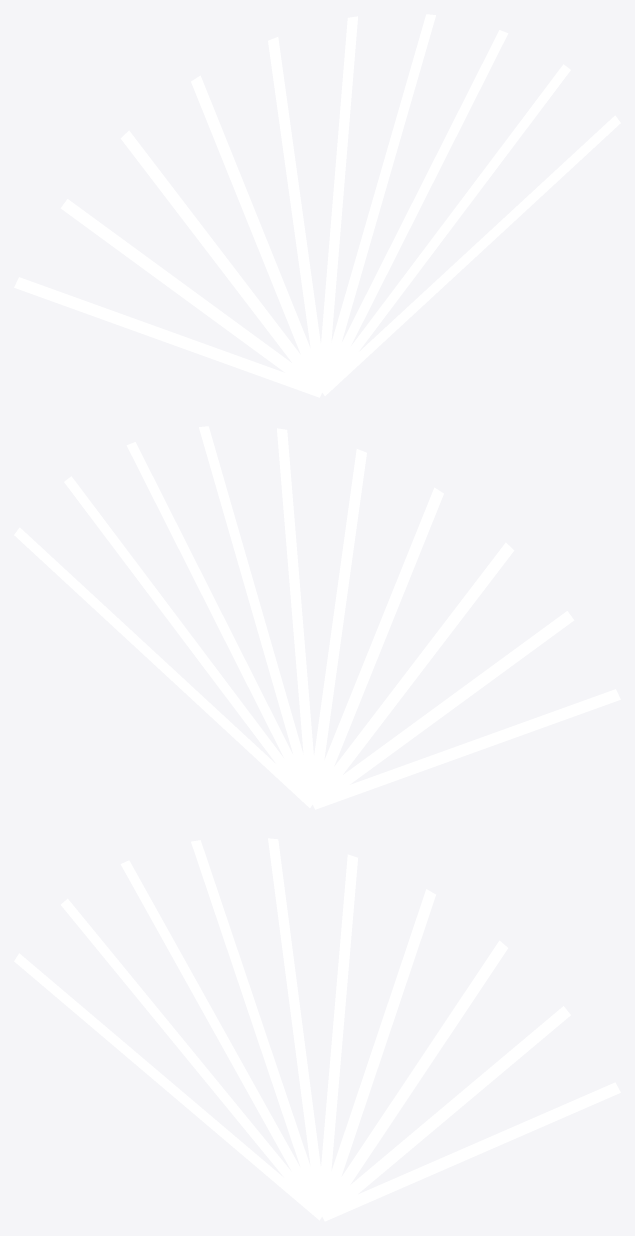
File: sun_rays.glb
3 views of the same model, one above another, from view 1: azimuth 30°, elevation 25°; view 2: azimuth 150°, elevation 25°; view 3: azimuth 330°, elevation 25° (orthographic).
Parts seen in each view (by area): view 1: sun_rays; view 2: sun_rays; view 3: sun_rays.
Part boxes in pixels (<box>): sun_rays: <box>14,14,620,397</box>; sun_rays: <box>14,426,620,809</box>; sun_rays: <box>14,838,620,1221</box>.
Size of the model in its own units: 20.64 by 12.12 by 0.01.
